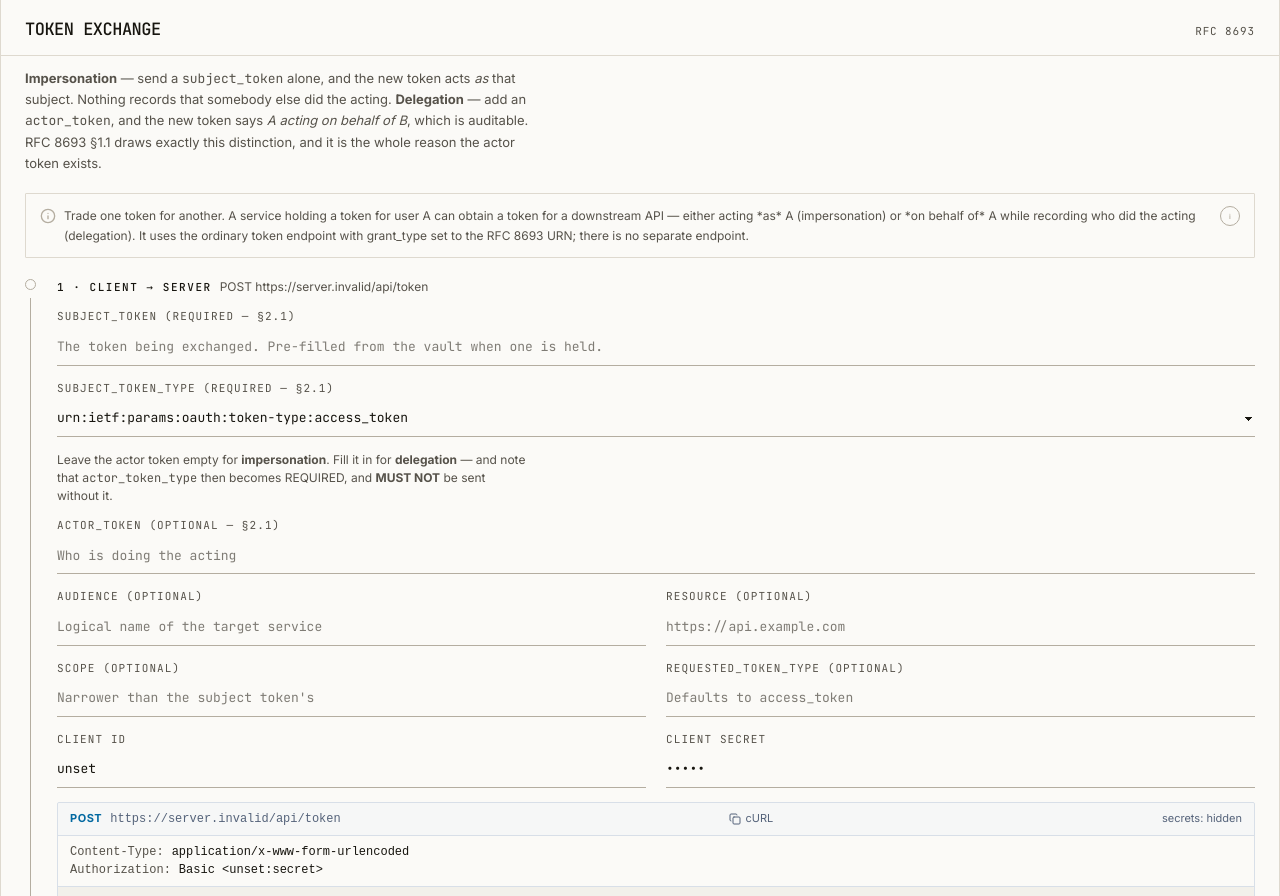
it: the deliberate defects are reported as deliberate › reports that a delegation request received impersonation
Replace the text in the field labelled "subject_token (REQUIRED — §2.1)" with "subject-at" at (656,348), box x1=57 y1=330 x2=1255 y2=366
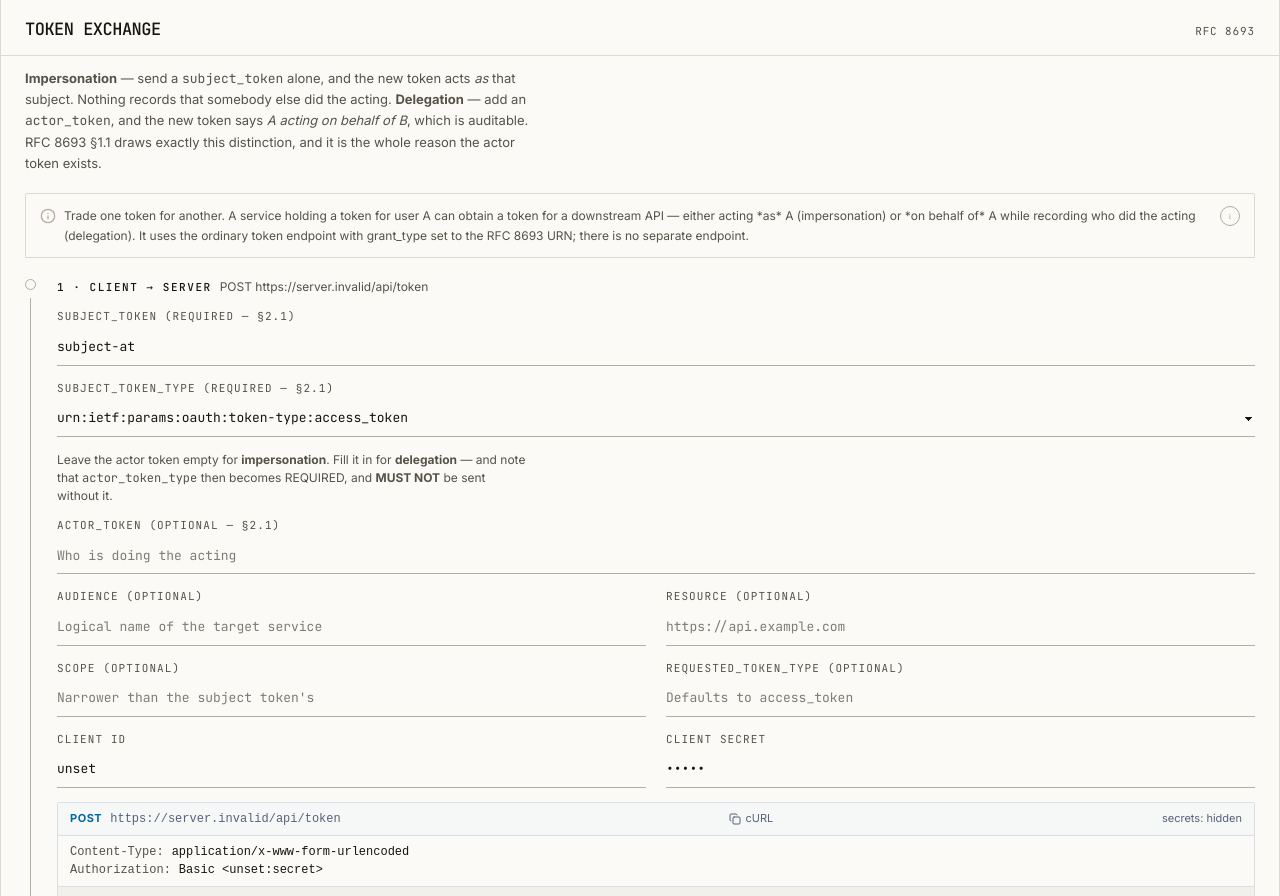
Type "actor-at" into the field labelled "actor_token (OPTIONAL — §2.1)" at (656,556), box x1=57 y1=539 x2=1255 y2=574
(page scrolled)
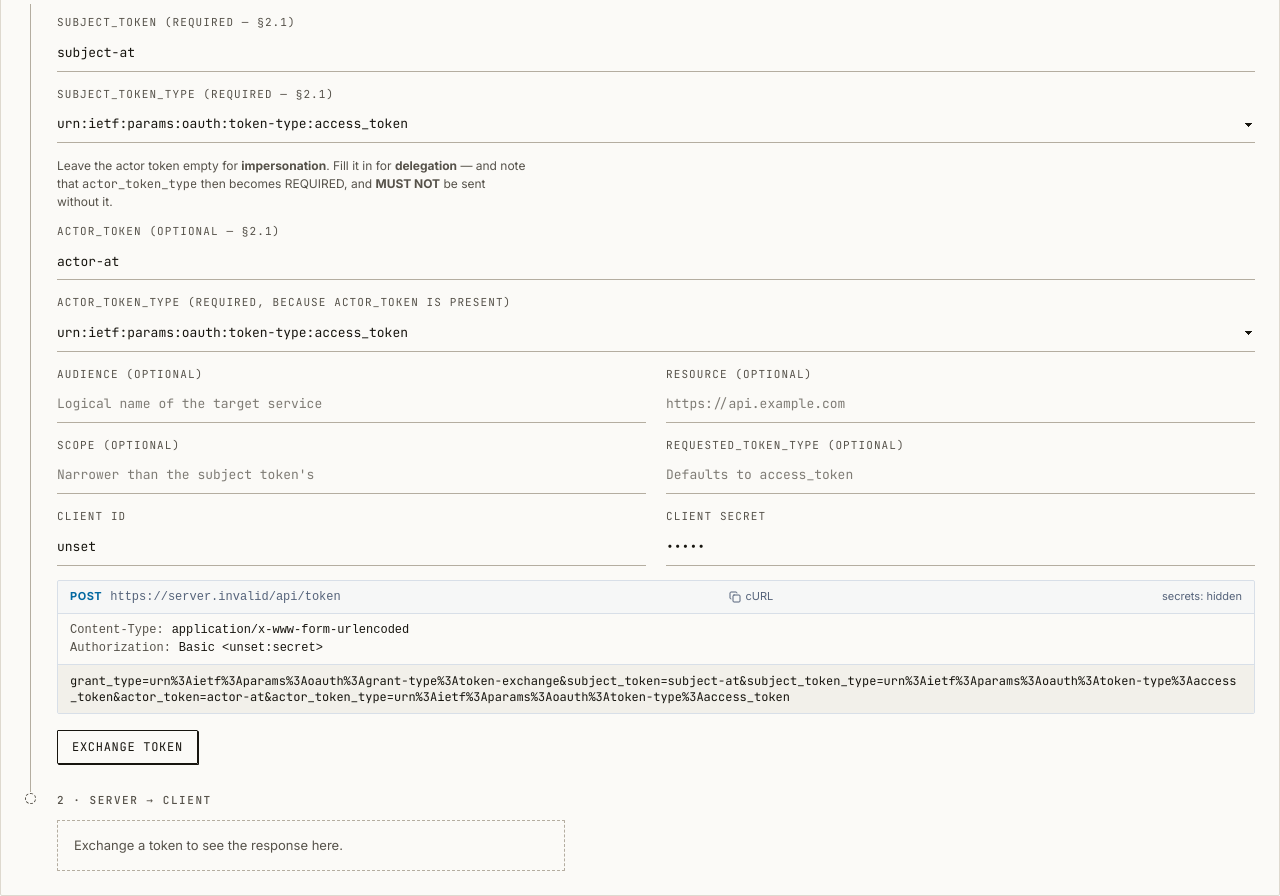
Click the button "Exchange token" at (127,747), box x1=57 y1=730 x2=198 y2=764
(page scrolled)
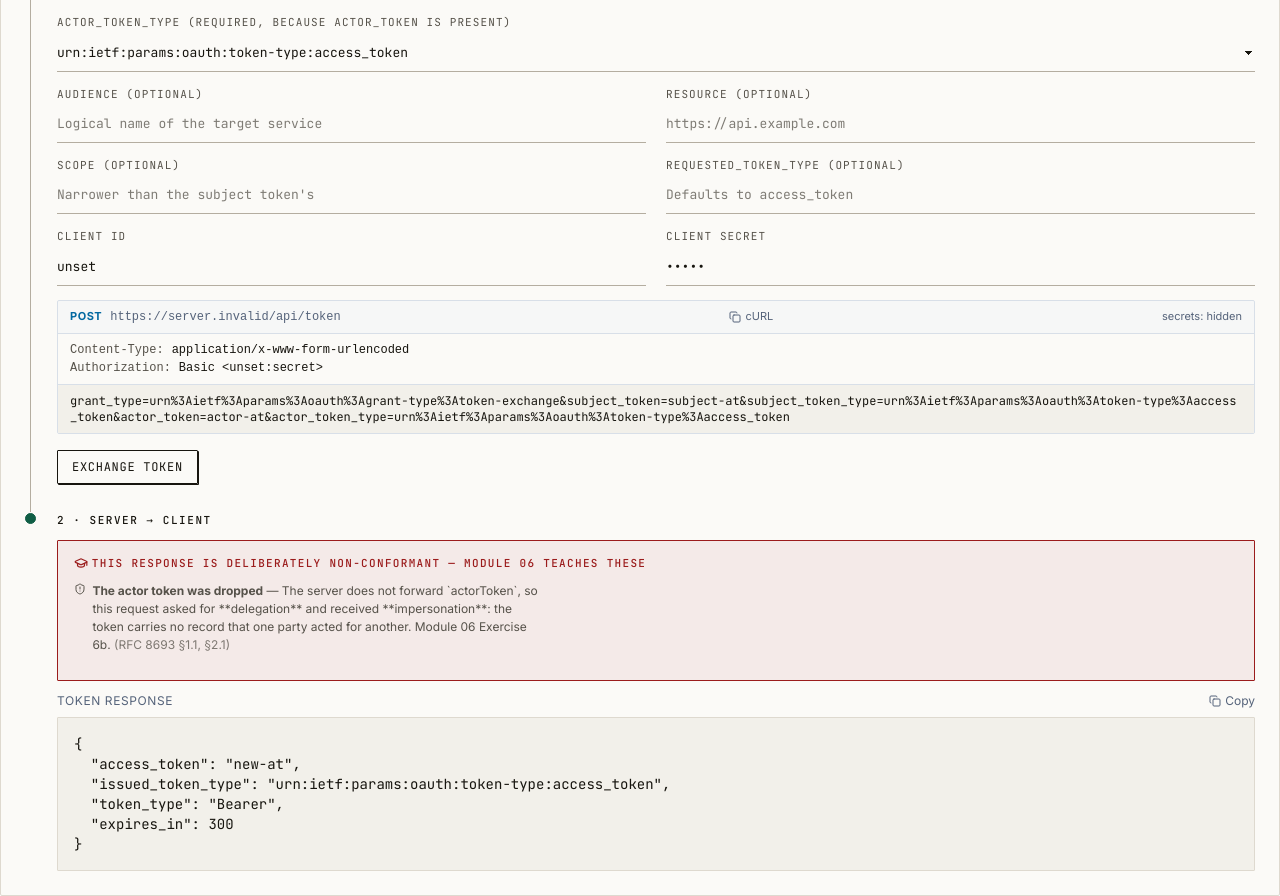
Expected: the text "deliberately non-conformant" is shown, x1=92 y1=556 x2=646 y2=570
Expected: the text "The actor token was dropped" is shown, x1=92 y1=583 x2=263 y2=598
Expected: the text "Exercise 6b" is shown, x1=92 y1=583 x2=538 y2=652
